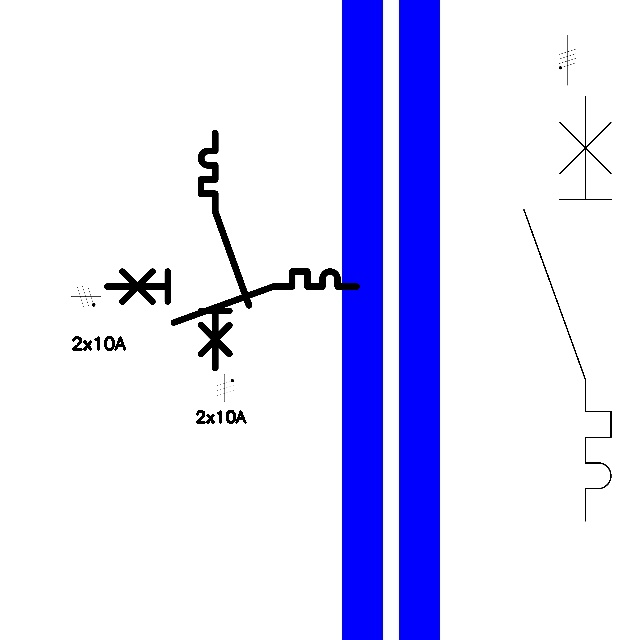interruptor_termomagnetico: (513, 85, 622, 531), (100, 265, 362, 329), (195, 127, 255, 374)
